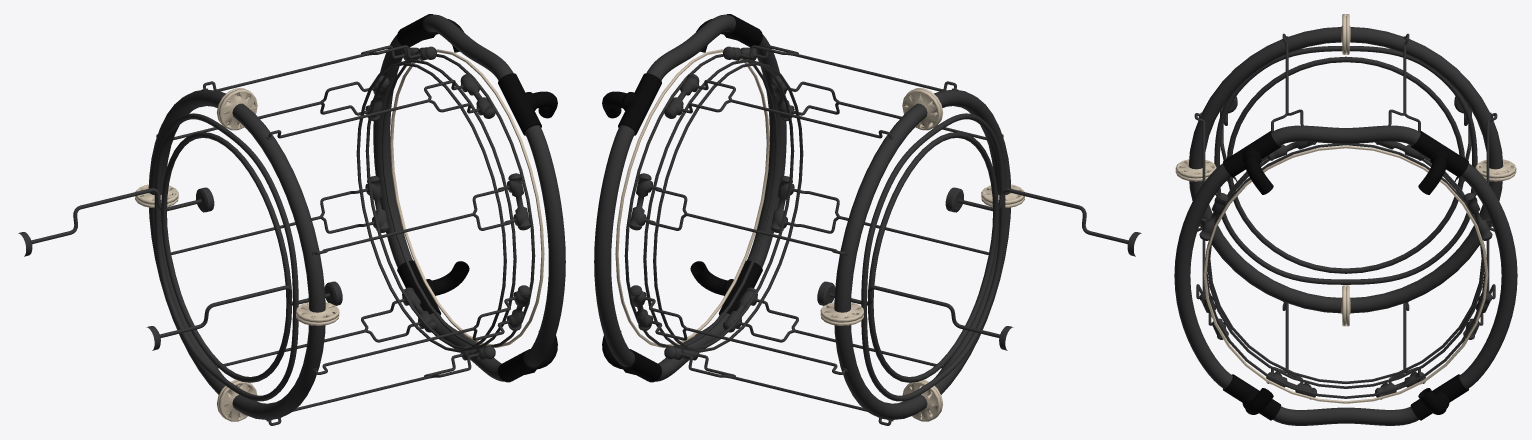
The model's file is 8_outer_pipes.FBX.
The picture shows the model from 3 angles, left to right: view 1: azimuth 30°, elevation 25°; view 2: azimuth 150°, elevation 25°; view 3: azimuth 270°, elevation 25°; orthographic projection. The views are drawn at different scales.
Visible parts, largest first — view 1: 8_outer_pipes; view 2: 8_outer_pipes; view 3: 8_outer_pipes.
Boxes of the visible parts, <box> form: 8_outer_pipes: <box>18,14,565,425</box>; 8_outer_pipes: <box>594,14,1141,425</box>; 8_outer_pipes: <box>1174,14,1517,425</box>.
Bounding box in the file's own units: 2.18 × 1.62 × 1.63.
